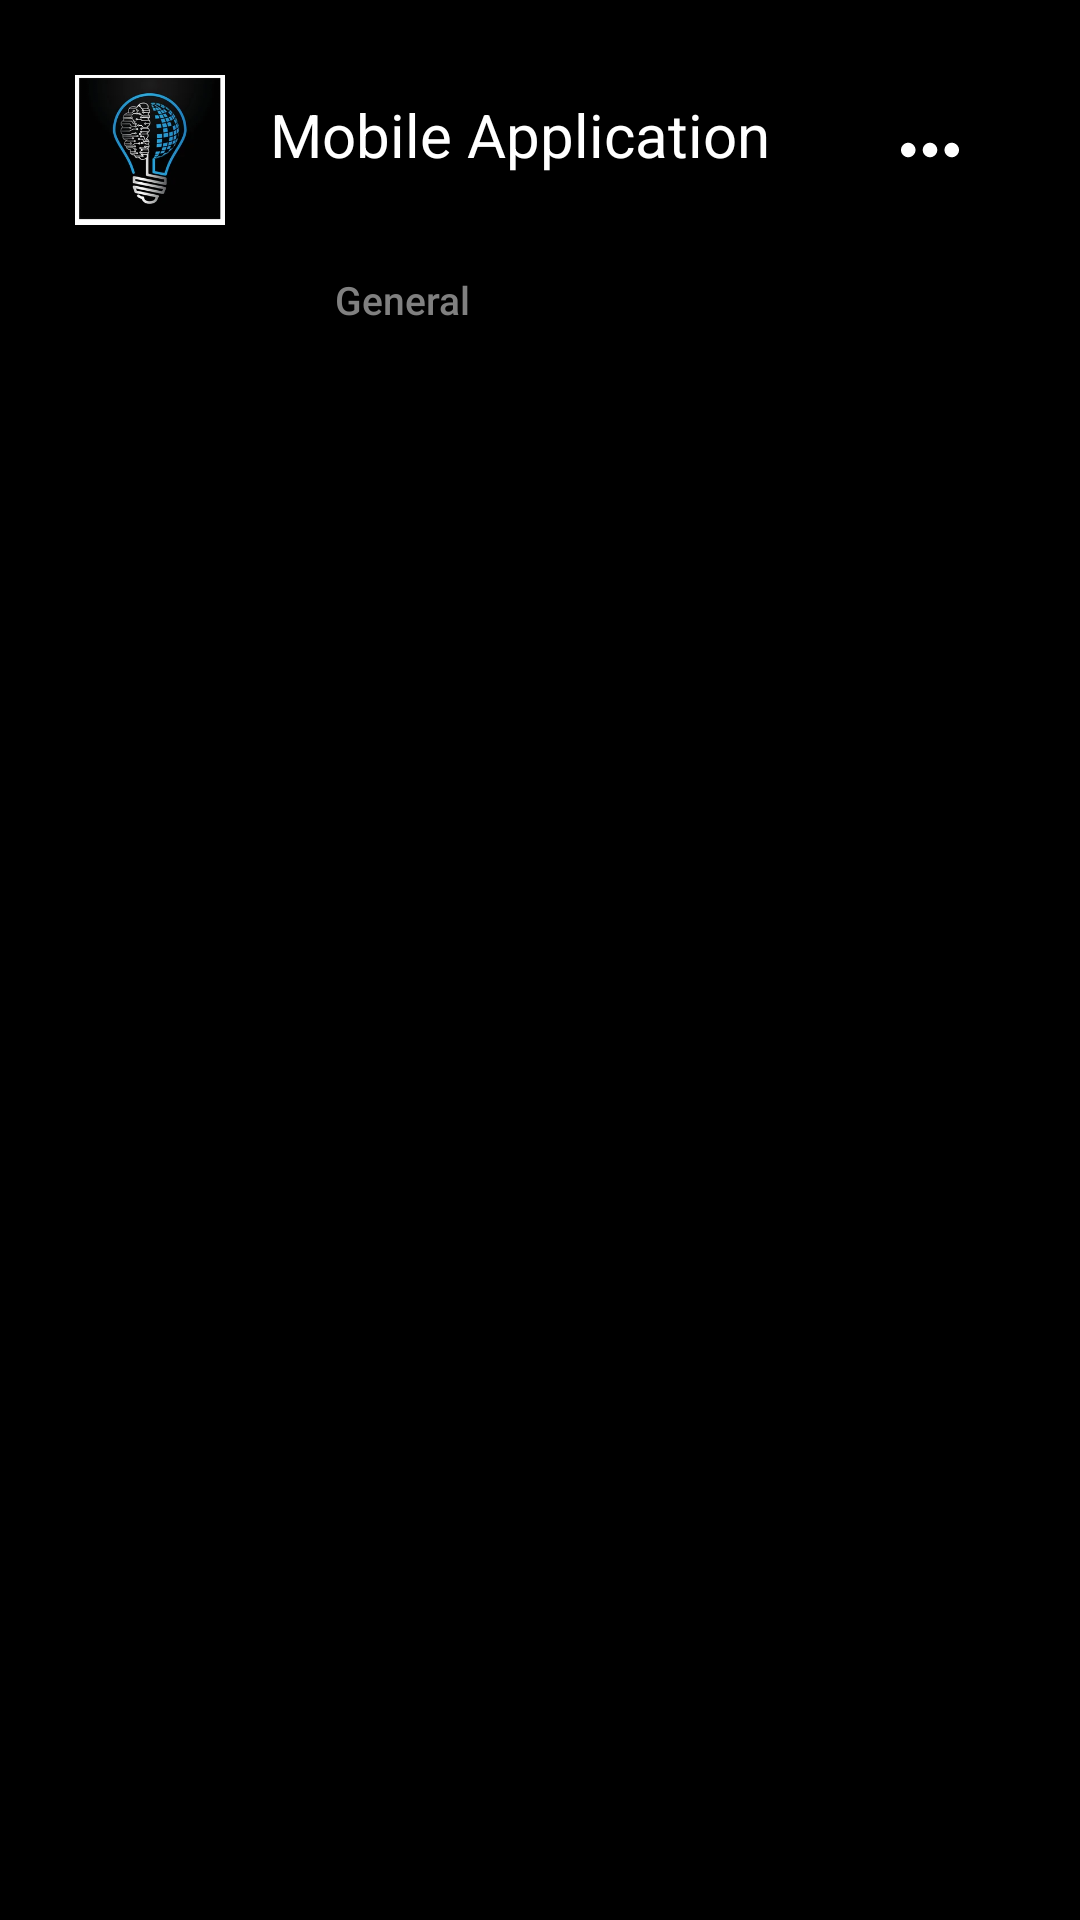

Icon click points for this 1080px×1920px phone screenshot, format point (x, y):
more: point (930, 150)
